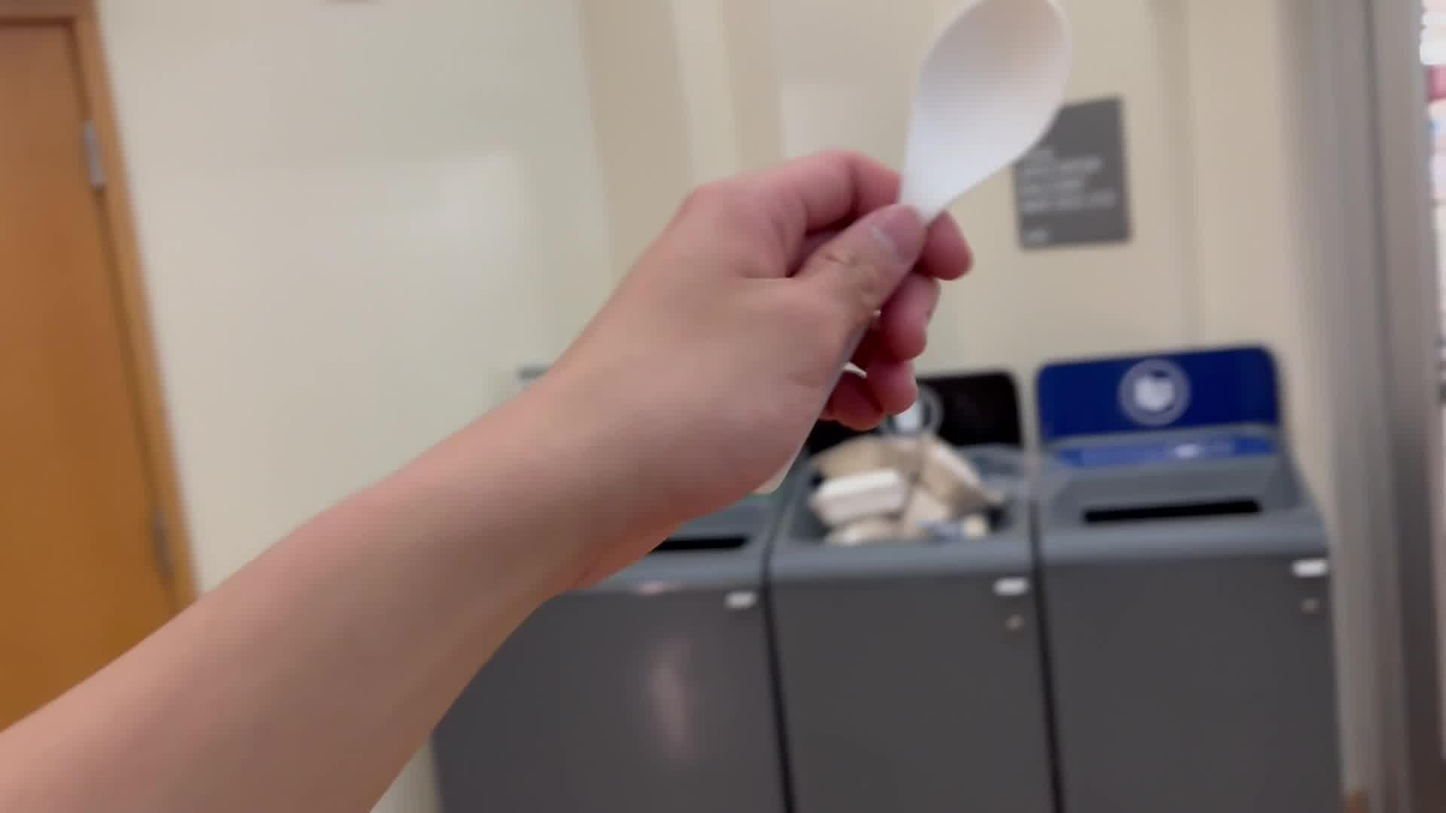utensil: (849, 0, 1099, 332)
